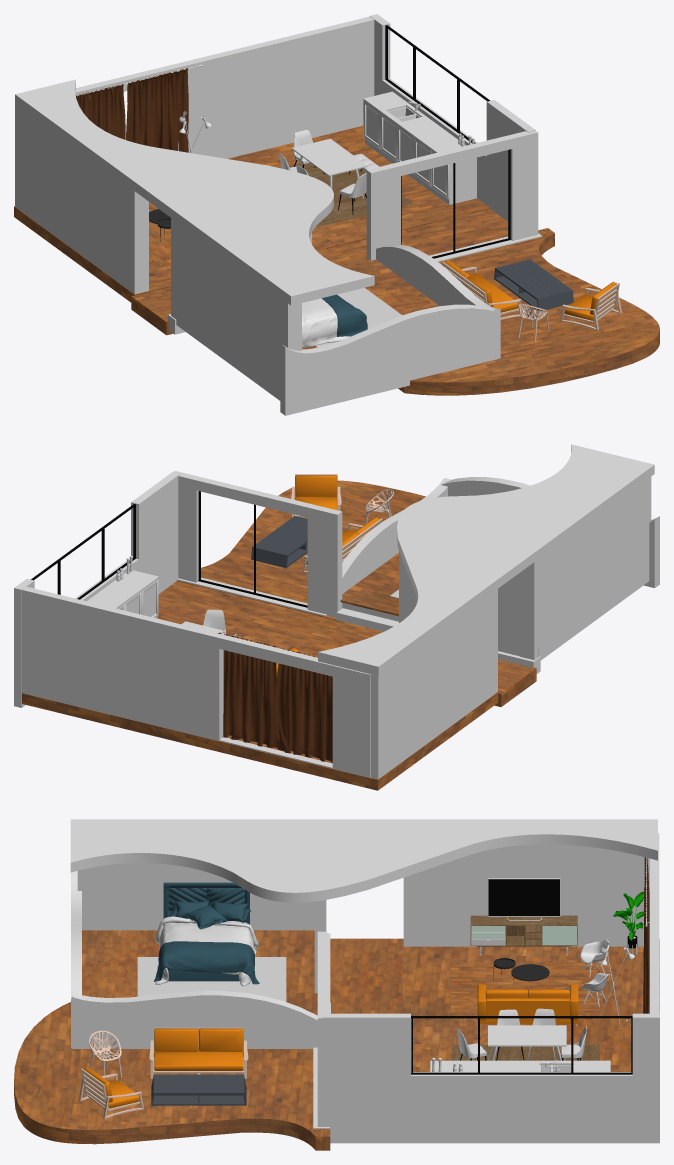
File: newHero.glb
The picture shows the model from 3 angles, top to bottom: view 1: azimuth 30°, elevation 25°; view 2: azimuth 150°, elevation 25°; view 3: azimuth 270°, elevation 25°; orthographic projection. The views are drawn at different scales.
Parts seen in each view (by area): view 1: walls_010, walls_001, walls_007, walls_002, walls_009, walls_011, walls_003, walls_005, items.028, items.023, walls_004, items.034 (+14 smaller); view 2: walls_007, walls_001, walls_010, walls_011, walls_009, walls_003, walls_005, items.027, items.028, walls_004, walls_014, walls_002 (+9 smaller); view 3: walls_010, walls_005, walls_001, walls_009, walls_004, walls_011, items.008, items.031, items.012, items.001, items.021, items.061 (+19 smaller).
Part boxes in pixels (bbox=[...]): walls_010: bbox=[14, 126, 659, 395]; walls_001: bbox=[15, 79, 374, 305]; walls_007: bbox=[75, 16, 374, 158]; walls_002: bbox=[280, 304, 498, 415]; walls_009: bbox=[15, 104, 148, 294]; walls_011: bbox=[171, 218, 301, 400]; walls_003: bbox=[366, 131, 538, 260]; walls_005: bbox=[369, 14, 535, 221]; items.028: bbox=[126, 68, 188, 152]; items.023: bbox=[363, 91, 476, 204]; walls_004: bbox=[376, 244, 500, 358]; items.034: bbox=[363, 101, 449, 199]; walls_007: bbox=[22, 586, 370, 777]; walls_001: bbox=[318, 444, 654, 675]; walls_010: bbox=[22, 480, 536, 790]; walls_011: bbox=[520, 477, 651, 660]; walls_009: bbox=[364, 589, 497, 779]; walls_003: bbox=[174, 471, 342, 617]; walls_005: bbox=[14, 472, 180, 707]; items.027: bbox=[275, 648, 332, 762]; items.028: bbox=[217, 632, 277, 747]; walls_004: bbox=[342, 478, 451, 593]; walls_014: bbox=[399, 551, 519, 656]; walls_002: bbox=[441, 477, 659, 588]; walls_010: bbox=[14, 930, 659, 1150]; walls_005: bbox=[322, 1013, 659, 1143]; walls_001: bbox=[70, 819, 657, 902]; walls_009: bbox=[403, 844, 649, 946]; walls_004: bbox=[71, 990, 317, 1048]; walls_011: bbox=[77, 863, 326, 931]; items.008: bbox=[154, 900, 259, 984]; items.031: bbox=[154, 1028, 243, 1070]; items.012: bbox=[137, 957, 286, 1001]; items.001: bbox=[151, 1074, 246, 1105]; items.021: bbox=[477, 984, 578, 1024]; items.061: bbox=[488, 879, 559, 915].
Size of the model in its own units: 9.04 by 2.86 by 12.37.
Materials: 16 (2 with a texture image).
